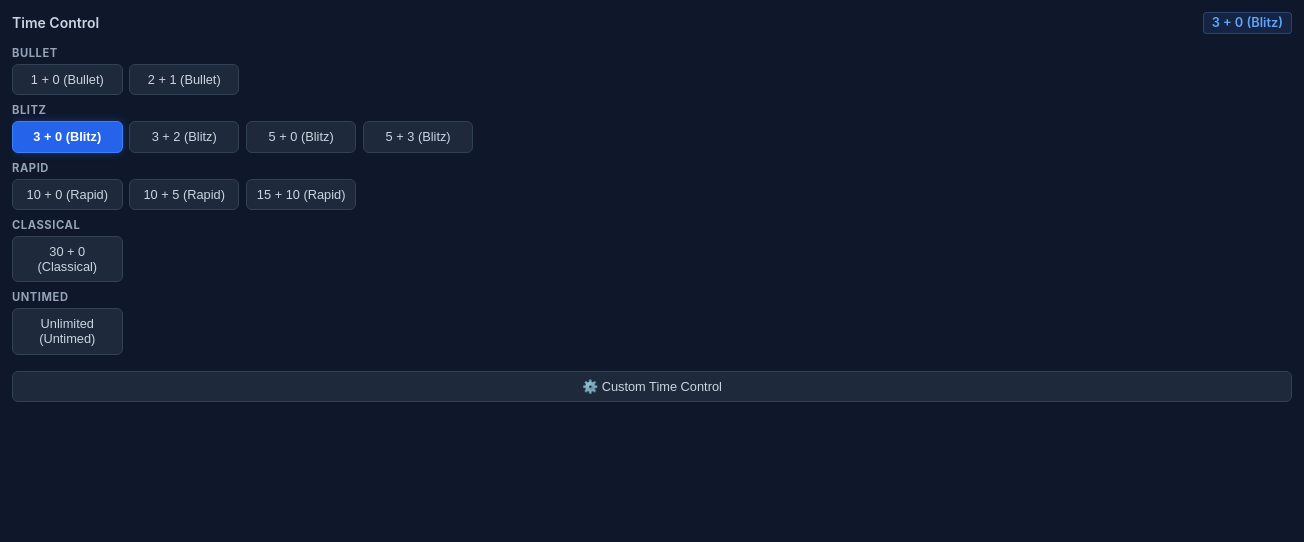
Test: TimeControlSelector Component (TC-CLK-UI-09 to TC-CLK-UI-16) › TC-CLK-UI-16: rejects base minutes exceeding 180 minutes
This screenshot has width=1304, height=542.
Click the radio button with test id "toggle-custom-time-control" at [652, 386], box [12, 371, 1292, 402]
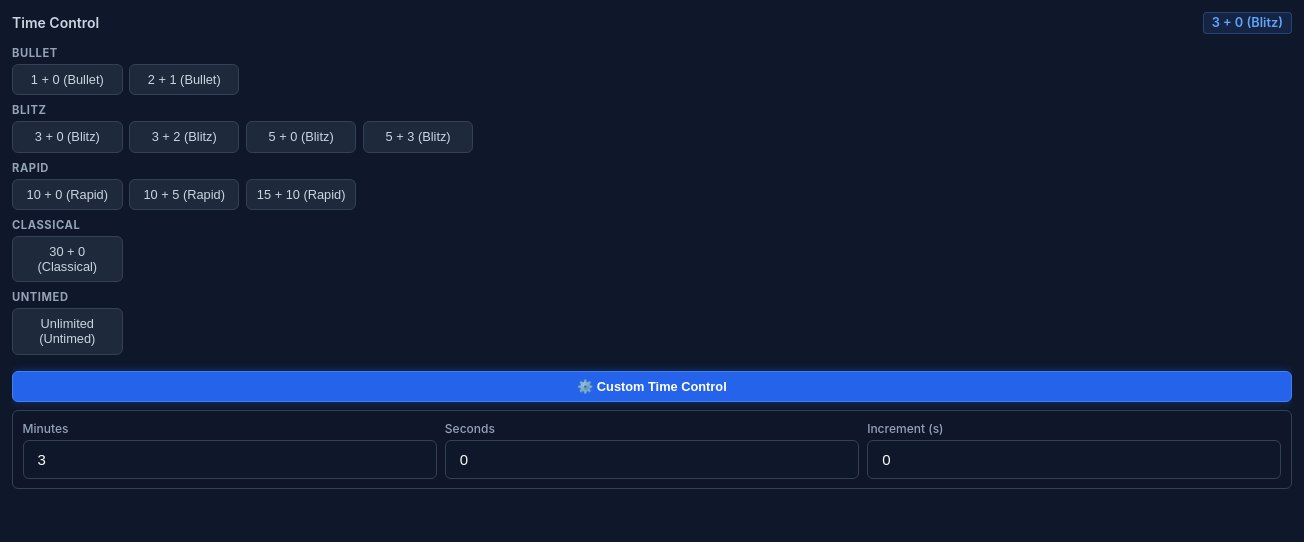
Replace the text in the number field with test id "input-custom-minutes" with "200" at [230, 459], box [23, 440, 437, 479]
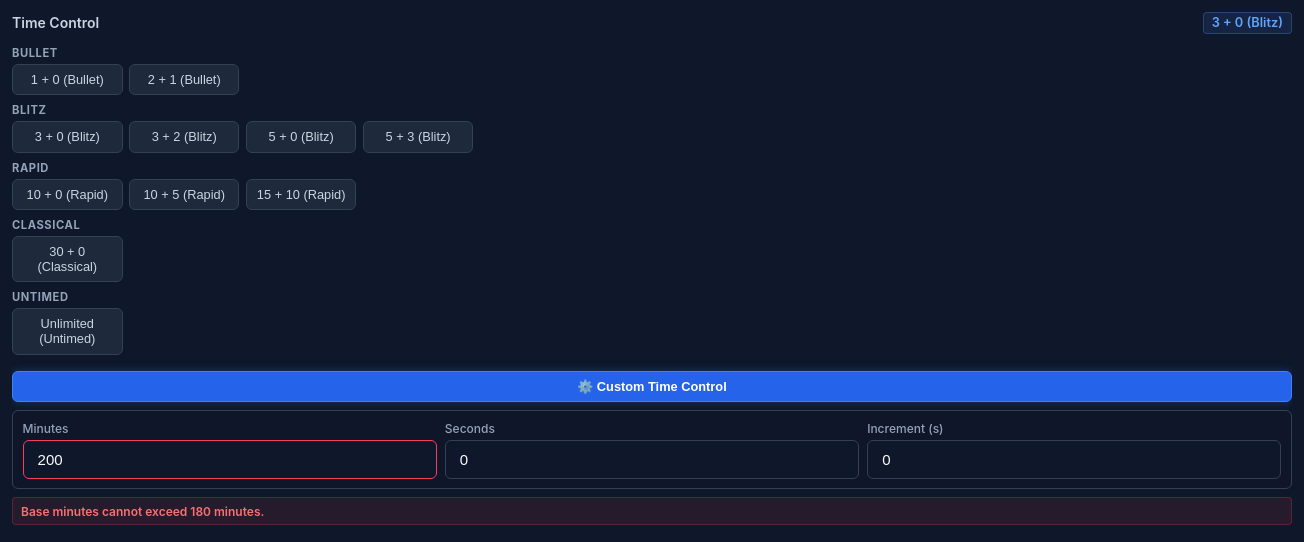
Check: the message with test id "custom-time-validation-error" reads "Base minutes cannot exceed 180 minutes.", box [21, 504, 264, 519]
